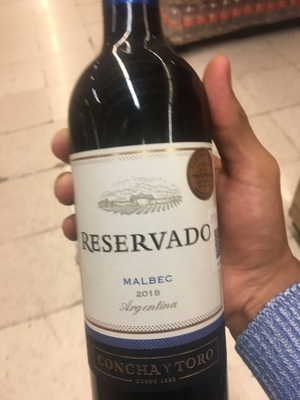reservado malbec: (65, 11, 237, 400)
